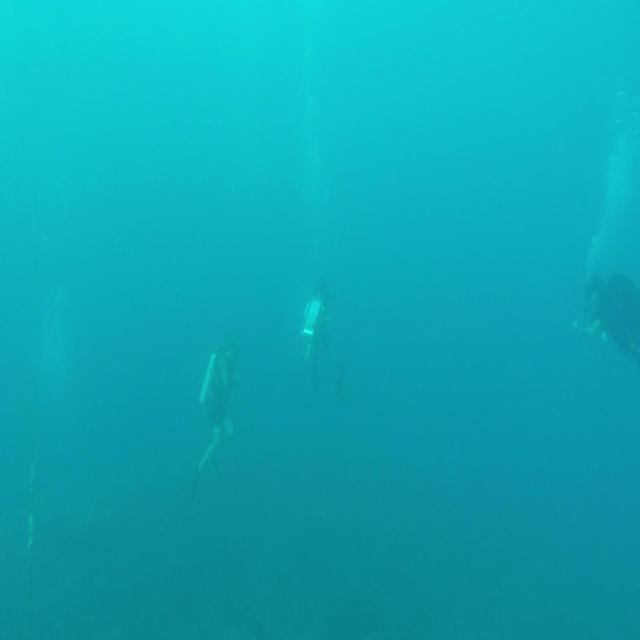human: (195, 334, 239, 478), (572, 269, 639, 362), (301, 277, 344, 399)
